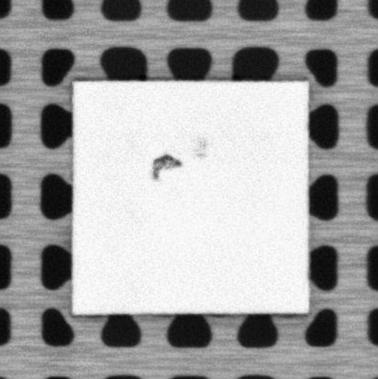DIE_INK: (151, 153, 181, 181)
